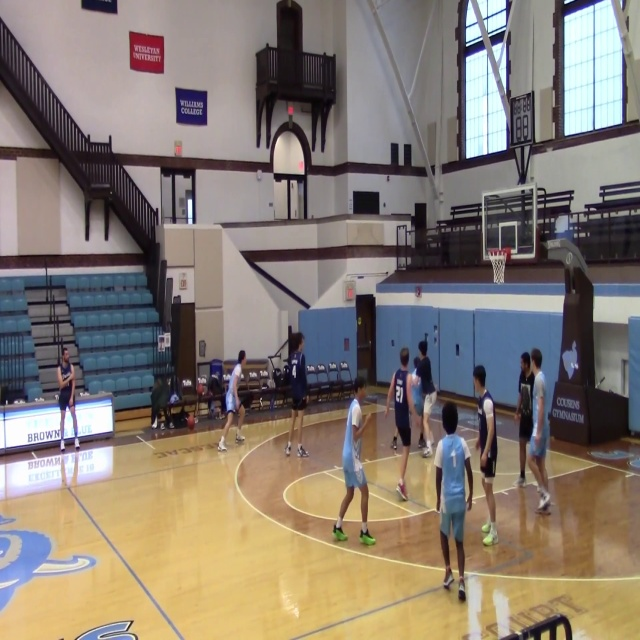Basketball: (481, 523, 491, 533)
